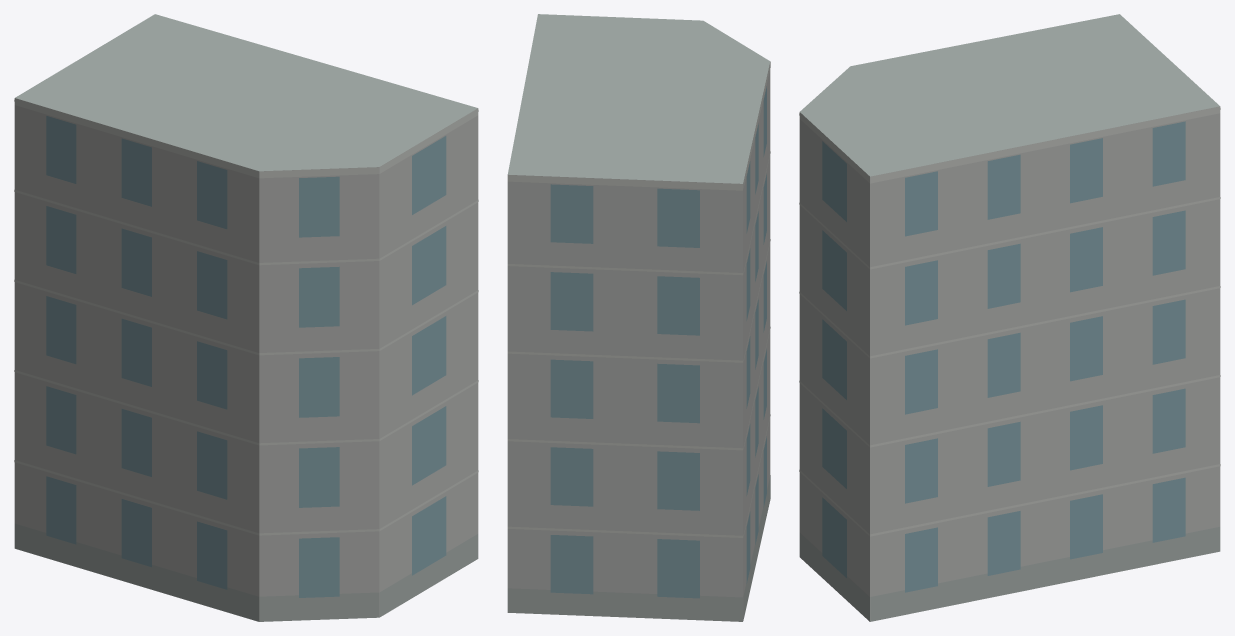
File: survey-upis-32807241.glb
The picture shows the model from 3 angles, left to right: view 1: azimuth 30°, elevation 25°; view 2: azimuth 150°, elevation 25°; view 3: azimuth 270°, elevation 25°; orthographic projection. The views are drawn at different scales.
Parts seen in each view (by area): view 1: survey-upis-32807241.tmp; view 2: survey-upis-32807241.tmp; view 3: survey-upis-32807241.tmp.
Boxes of the visible parts, bbox=[...] form: survey-upis-32807241.tmp: bbox=[14, 14, 478, 621]; survey-upis-32807241.tmp: bbox=[507, 14, 770, 621]; survey-upis-32807241.tmp: bbox=[799, 14, 1220, 621].
Bounding box in the file's own units: 12.25 × 15.6 × 13.38.
